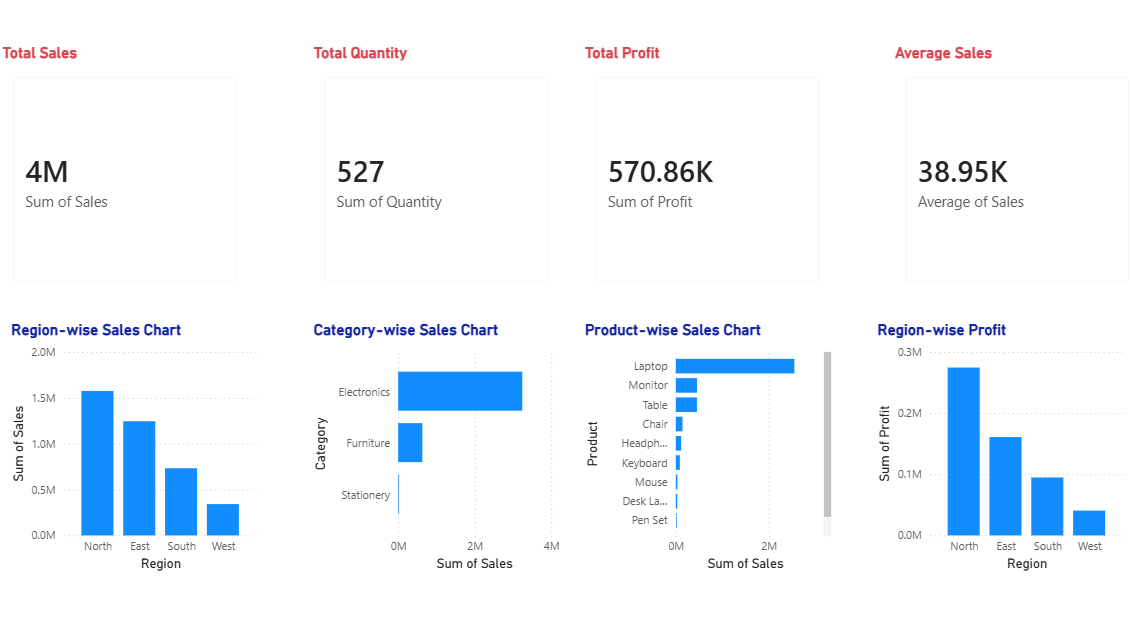

The dashboard page shown, as its layout file describes it:
{"tool":"powerbi","page":{"name":"Page 1","canvas":[1280,720],"ordinal":0},"visuals":[{"type":"cardVisual","title":"Total Sales","fields":{"Data":["Sum(Sales Data.Sales)"]},"box":[0,54.9,279.9,279.9],"z":0},{"type":"cardVisual","title":"Total Quantity","fields":{"Data":["Sum(Sales Data.Quantity)"]},"box":[341.7,54.9,279.9,279.9],"z":1},{"type":"cardVisual","title":"Total Profit","fields":{"Data":["Sum(Sales Data.Profit)"]},"box":[639.5,54.9,279.9,279.9],"z":2},{"type":"cardVisual","title":"Average Sales","fields":{"Data":["Avg(Sales Data.Sales)"]},"box":[979.8,54.9,279.9,279.9],"z":3},{"type":"clusteredColumnChart","title":"Region-wise Sales Chart","fields":{"Category":["Sales Data.Region"],"Y":["Sum(Sales Data.Sales)"]},"box":[9.6,359.5,279.9,279.9],"z":4},{"type":"clusteredBarChart","title":"Category-wise Sales Chart","fields":{"Category":["Sales Data.Category"],"Y":["Sum(Sales Data.Sales)"]},"box":[341.7,359.5,279.9,279.9],"z":5},{"type":"clusteredBarChart","title":"Product-wise Sales Chart","fields":{"Category":["Sales Data.Product"],"Y":["Sum(Sales Data.Sales)"]},"box":[639.5,359.5,279.9,279.9],"z":6},{"type":"clusteredColumnChart","title":"Region-wise Profit","fields":{"Category":["Sales Data.Region"],"Y":["Sum(Sales Data.Profit)"]},"box":[960.6,359.5,279.9,279.9],"z":7}]}

Visuals, with their boxes in screenshot pixels (x1, y1, x2, y2), scaled from the page's 1280x720 canvas onto the 1131x622 screenshot:
"Total Sales" cardVisual: 0, 47, 247, 289
"Total Quantity" cardVisual: 302, 47, 549, 289
"Total Profit" cardVisual: 565, 47, 812, 289
"Average Sales" cardVisual: 866, 47, 1113, 289
"Region-wise Sales Chart" clusteredColumnChart: 8, 311, 256, 552
"Category-wise Sales Chart" clusteredBarChart: 302, 311, 549, 552
"Product-wise Sales Chart" clusteredBarChart: 565, 311, 812, 552
"Region-wise Profit" clusteredColumnChart: 849, 311, 1096, 552
